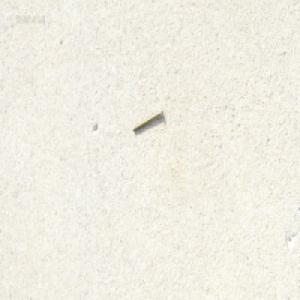Bolt: (132, 107, 164, 132)
